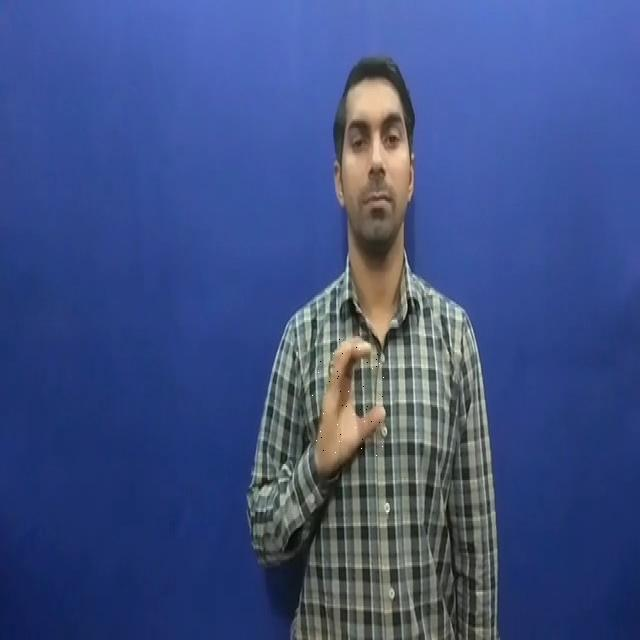pepper: (310, 339, 384, 466)
